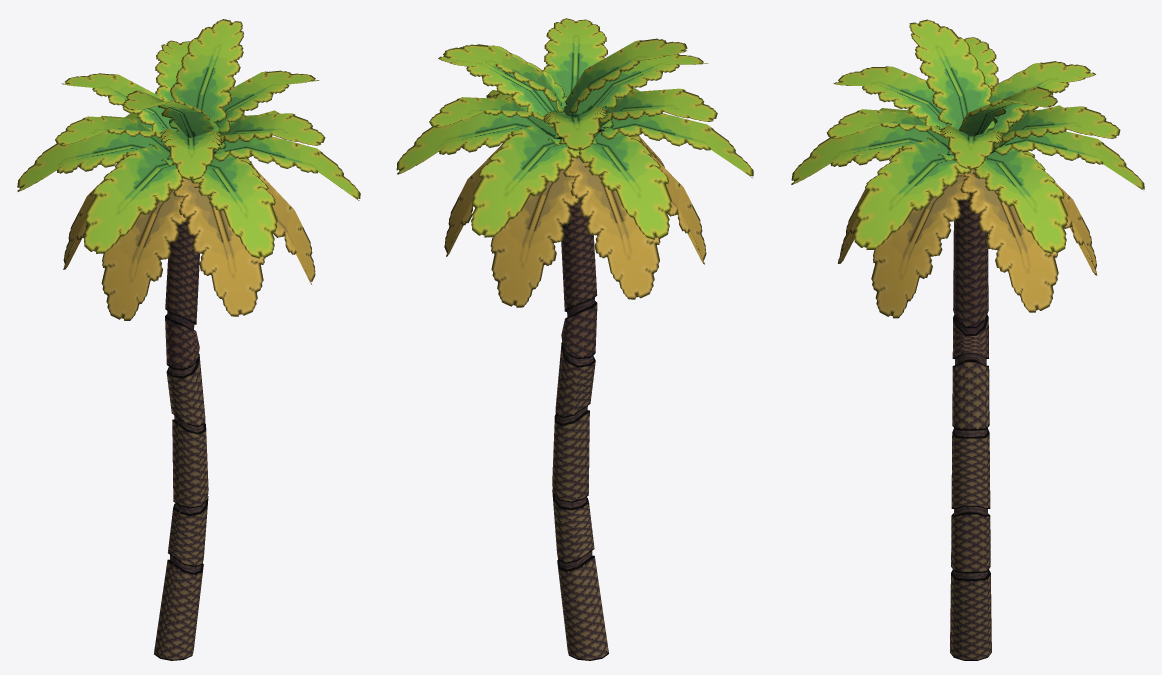
Rendered from Prop_Palmera1.fbx.
3 renders of one model, left to right at view 1: azimuth 30°, elevation 25°; view 2: azimuth 150°, elevation 25°; view 3: azimuth 270°, elevation 25°, orthographic. The views are drawn at different scales.
Parts seen in each view (by area): view 1: Cylinder.027; view 2: Cylinder.027; view 3: Cylinder.027.
Boxes of the visible parts, bbox=[...] form: Cylinder.027: bbox=[17, 19, 360, 660]; Cylinder.027: bbox=[396, 18, 753, 660]; Cylinder.027: bbox=[791, 19, 1144, 660].
Size of the model in its own units: 4.76 by 8.79 by 4.79.
